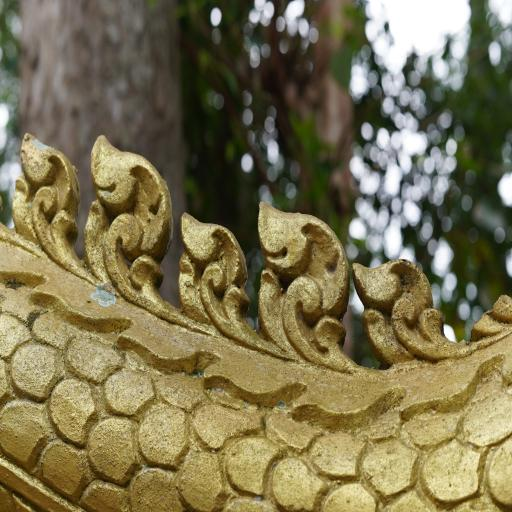la: (250, 189, 360, 379), (78, 120, 176, 309), (353, 245, 469, 375), (2, 116, 88, 275), (171, 204, 249, 340)
